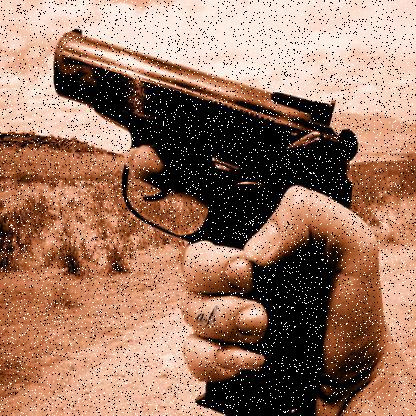pistol: (50, 22, 358, 415)
